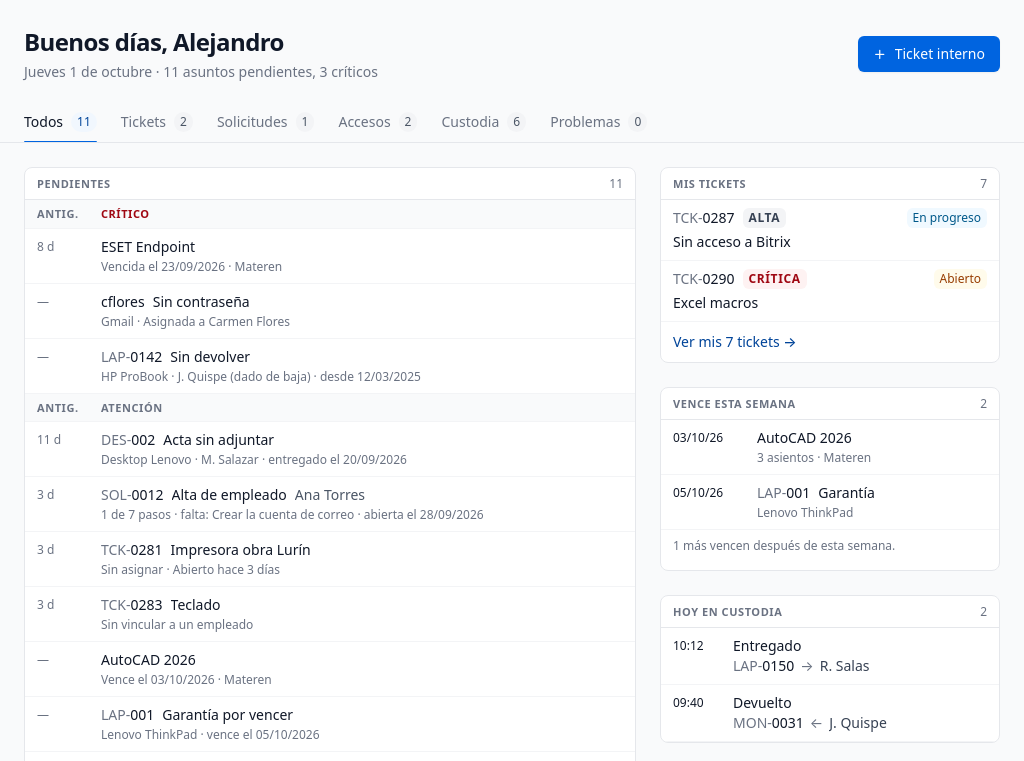
Inicio — filtro por vista › una vista sin pendientes dice cuál es
Click the button "Problemas 0". click: (599, 122)
box: [550,102,647,142]
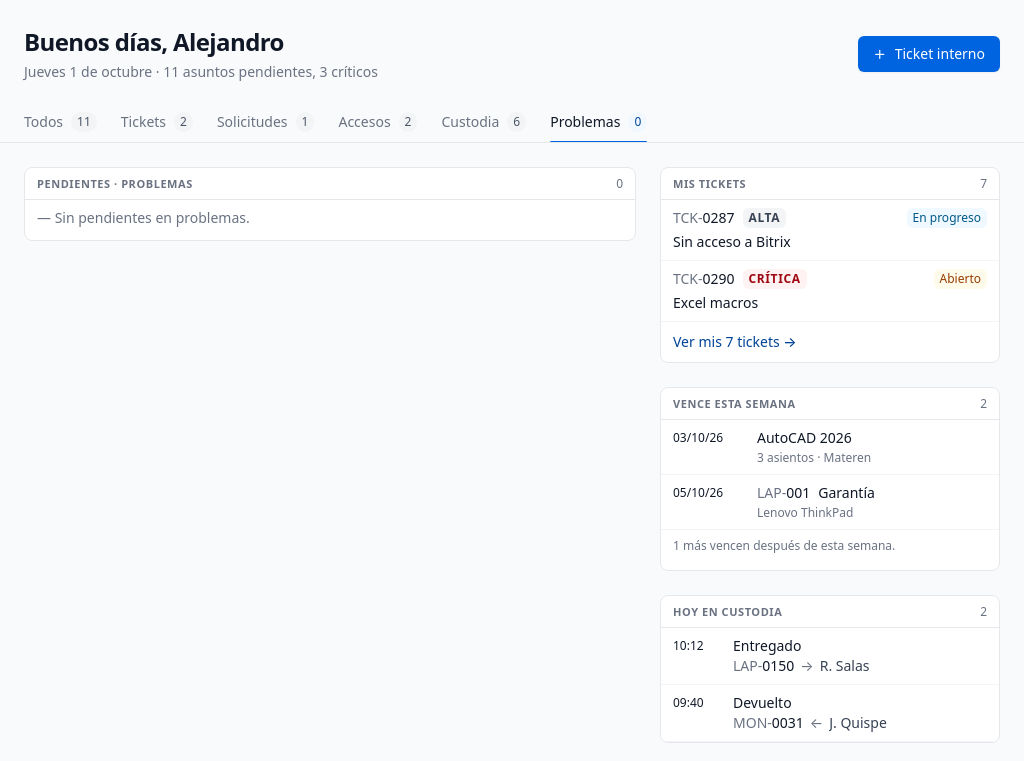
Check: the text "— Sin pendientes en problemas." is shown, box [37,208,250,227]
